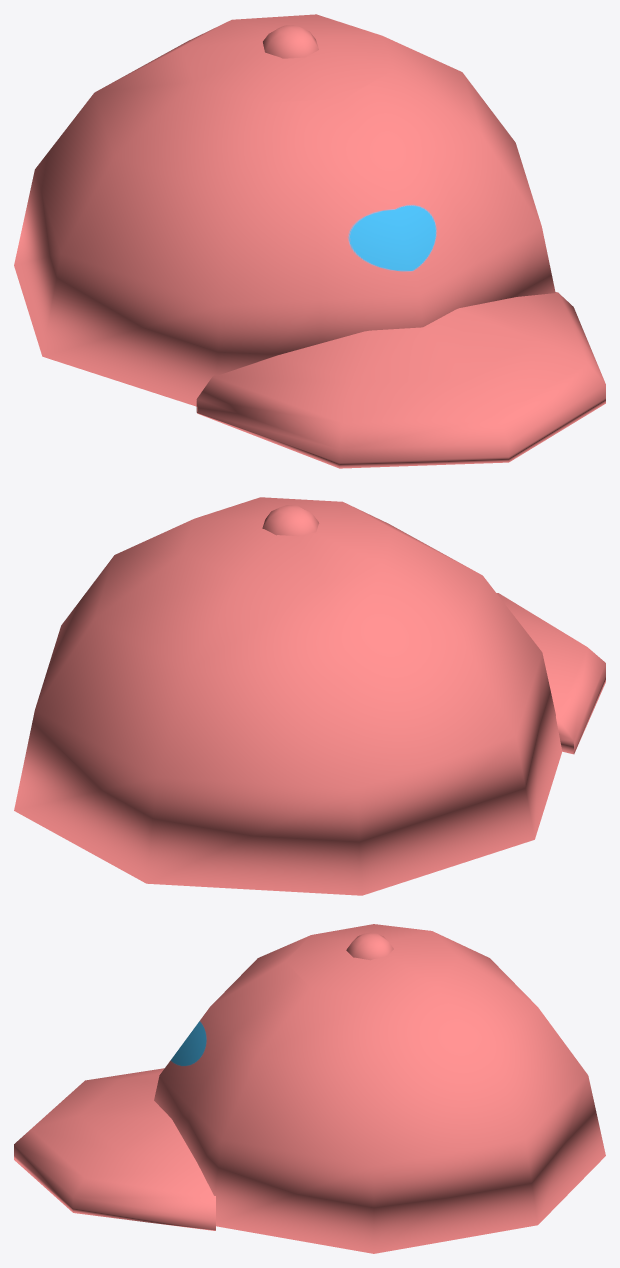
The model's file is Blobby_With_Hat_Colored.fbx.
3 renders of one model, top to bottom at view 1: azimuth 30°, elevation 25°; view 2: azimuth 150°, elevation 25°; view 3: azimuth 270°, elevation 25°, orthographic. The views are drawn at different scales.
Parts seen in each view (by area): view 1: Brim; view 2: Brim; view 3: Brim.
Boxes of the visible parts, x1,y1,x2,y2 form: Brim: (14,14,605,468); Brim: (14,497,605,895); Brim: (14,924,605,1253).
Bounding box in the file's own units: 283 × 151 × 361.
Materials: 1 (1 with a texture image).
